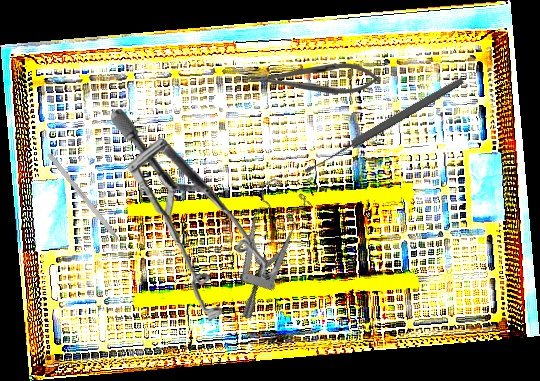Hook Surgical: (46, 152, 132, 255)
Needle Holder: (249, 63, 380, 94)
Speculum: (110, 103, 280, 326), (189, 170, 335, 322)
Surgical Spoon: (302, 75, 466, 176)
